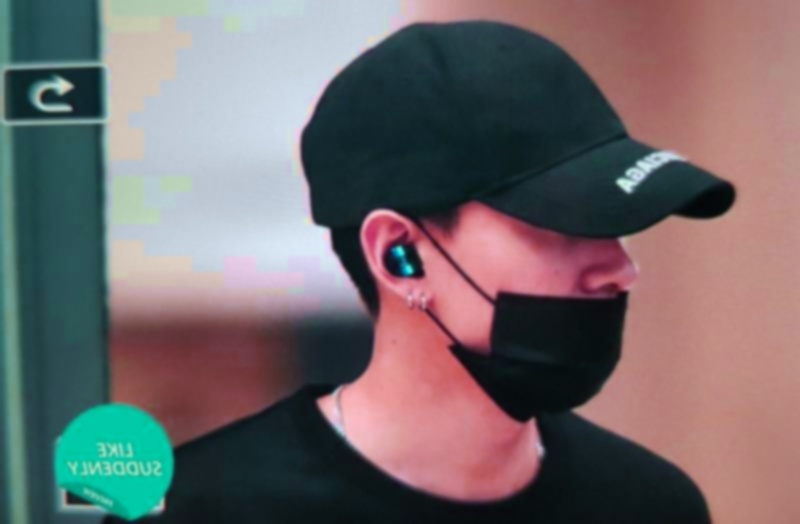earphone: (360, 209, 433, 309)
